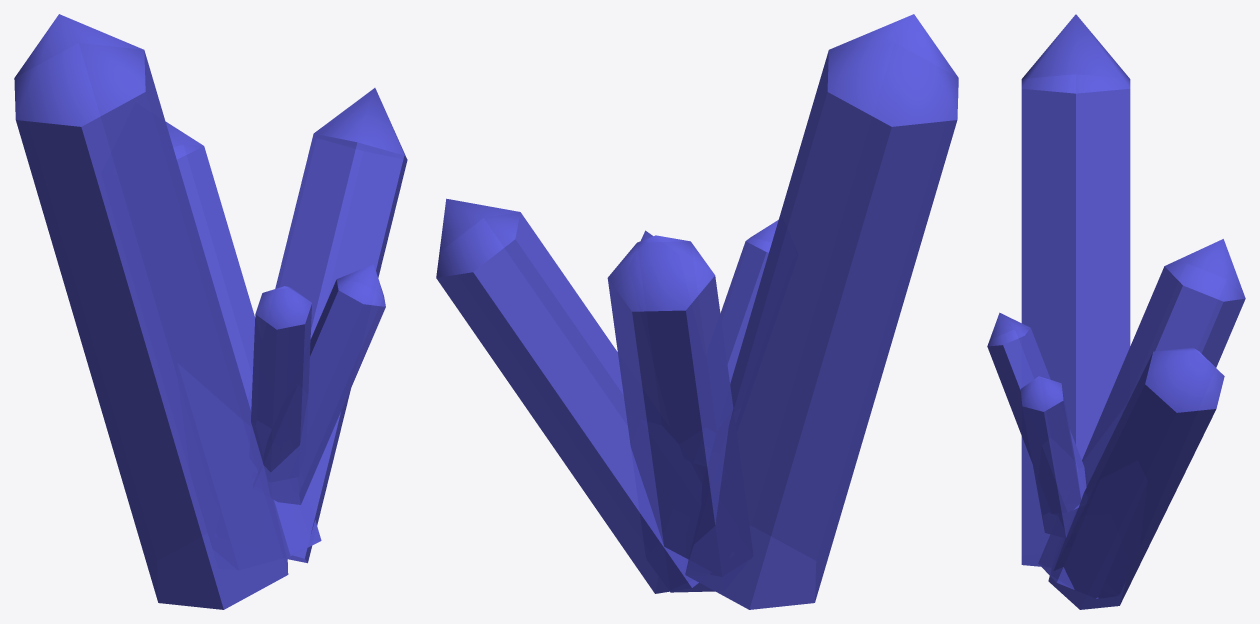
Rendered from Crystals.fbx.
The picture shows the model from 3 angles, left to right: view 1: azimuth 30°, elevation 25°; view 2: azimuth 150°, elevation 25°; view 3: azimuth 270°, elevation 25°; orthographic projection. The views are drawn at different scales.
Visible parts, largest first — view 1: pCylinder1, pCylinder4, pCylinder5, pCylinder6, pCylinder3; view 2: pCylinder1, pCylinder4, pCylinder3, pCylinder6; view 3: pCylinder1, pCylinder4, pCylinder3, pCylinder5, pCylinder6.
Part boxes in pixels (box(x1,y1,x2,y2)): pCylinder1: box(14, 14, 288, 609); pCylinder4: box(275, 88, 407, 563); pCylinder5: box(263, 264, 385, 504); pCylinder6: box(251, 286, 311, 472); pCylinder3: box(165, 122, 321, 557); pCylinder1: box(685, 14, 958, 609); pCylinder4: box(436, 198, 698, 593); pCylinder3: box(607, 235, 733, 592); pCylinder6: box(720, 220, 778, 383); pCylinder1: box(1021, 14, 1130, 566); pCylinder4: box(1048, 347, 1224, 609); pCylinder3: box(1038, 239, 1245, 598); pCylinder5: box(1020, 376, 1081, 538); pCylinder6: box(987, 312, 1086, 509).
Size of the model in its own units: 7.47 by 9.7 by 4.54.
